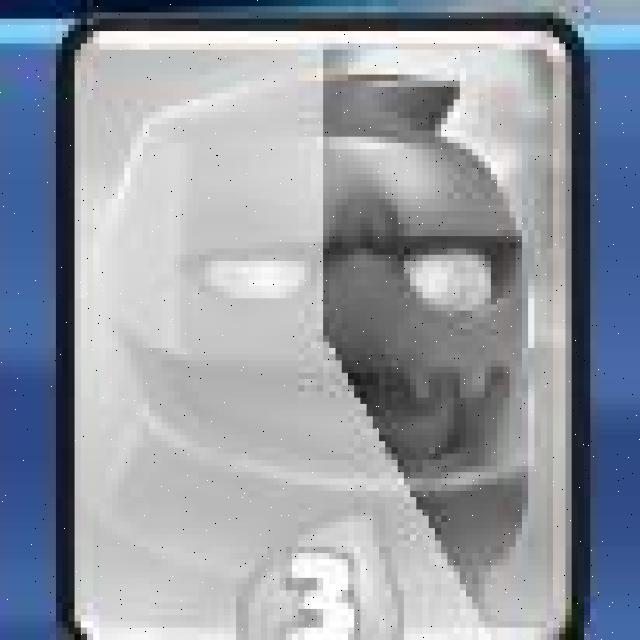Elixir_Golem: (52, 14, 591, 640)
